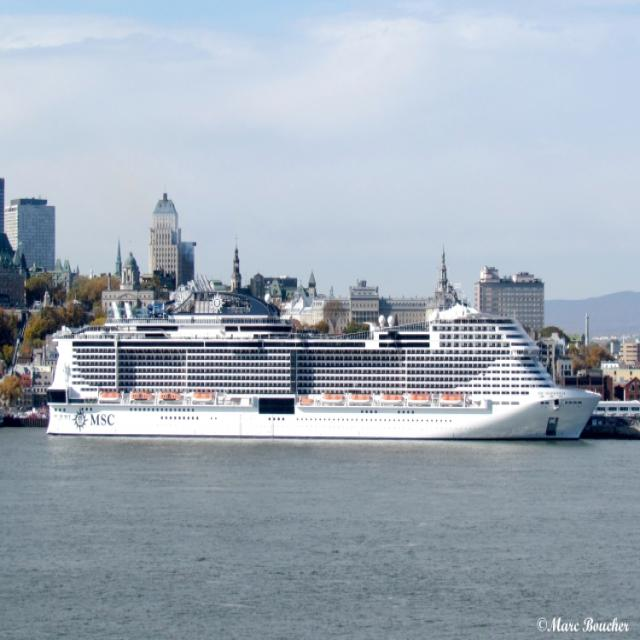cruises: (42, 300, 607, 449)
